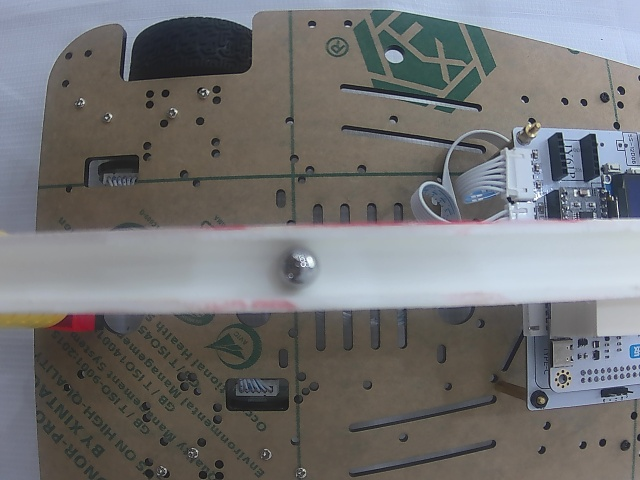steelball: (274, 247, 321, 288)
